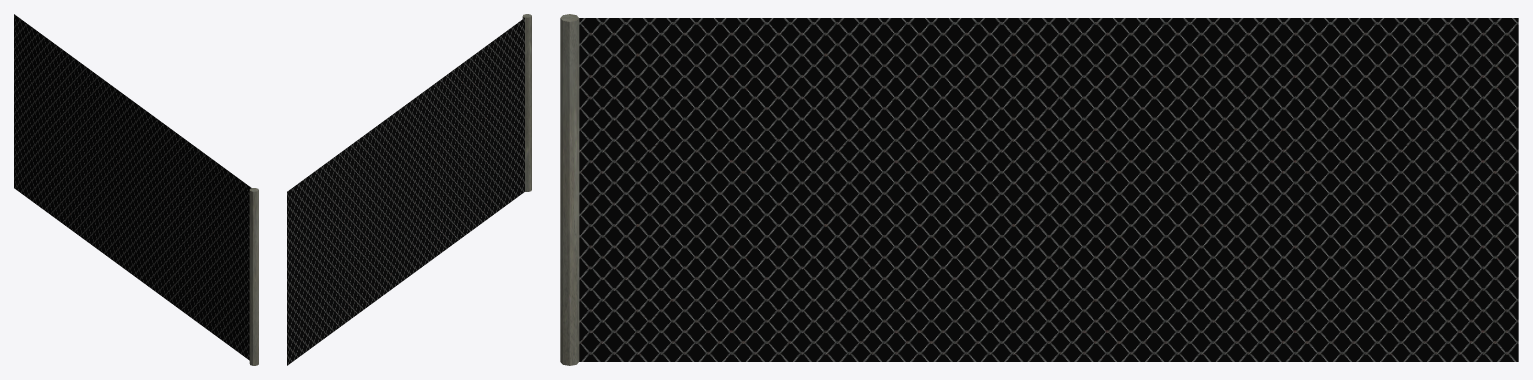
Rendered from Fence.fbx.
The picture shows the model from 3 angles, left to right: view 1: azimuth 30°, elevation 25°; view 2: azimuth 150°, elevation 25°; view 3: azimuth 270°, elevation 25°; orthographic projection. The views are drawn at different scales.
Parts seen in each view (by area): view 1: Fence; view 2: Fence; view 3: Fence.
Part boxes in pixels (x1,y1,x2,y2): Fence: (14,14,258,365); Fence: (287,14,531,365); Fence: (560,14,1518,365).
Bounding box in the file's own units: 20 × 400 × 1010.
Materials: 2 (2 with a texture image).
